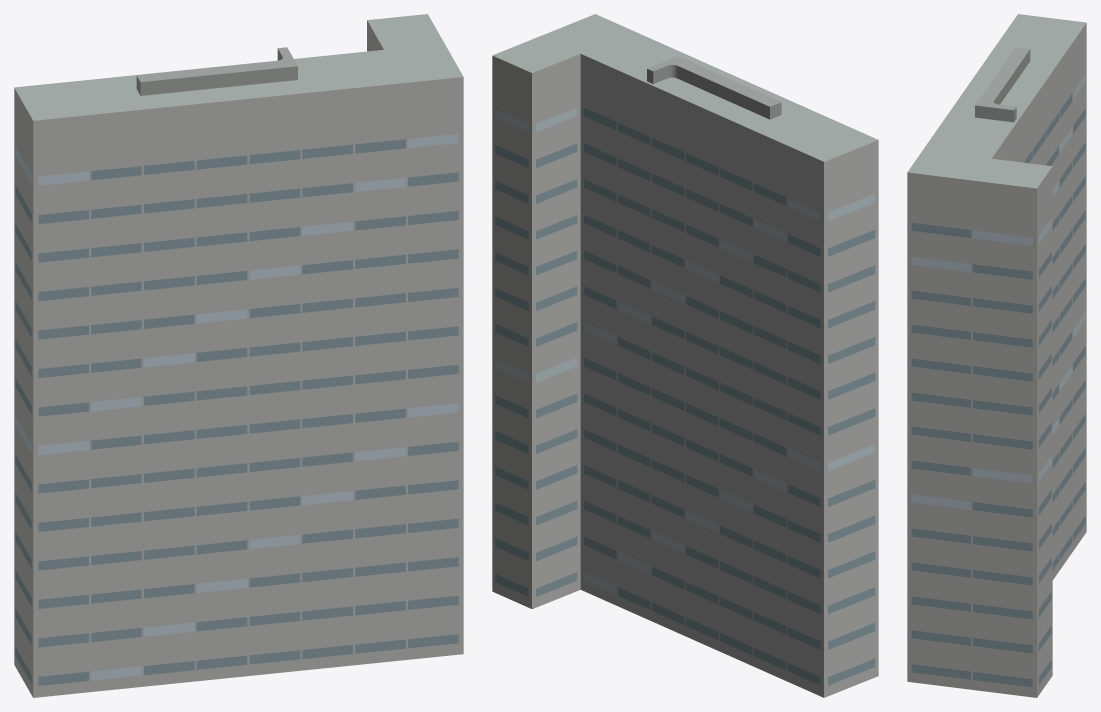
File: fallback-olympic-park-foreon-110.glb
3 views of the same model, side by side, from view 1: azimuth 30°, elevation 25°; view 2: azimuth 150°, elevation 25°; view 3: azimuth 270°, elevation 25° (orthographic). The views are drawn at different scales.
Parts seen in each view (by area): view 1: fallback-olympic-park-foreon-110; view 2: fallback-olympic-park-foreon-110; view 3: fallback-olympic-park-foreon-110.
Part boxes in pixels (x1=…): fallback-olympic-park-foreon-110: x1=14, y1=14, x2=463, y2=697; fallback-olympic-park-foreon-110: x1=492, y1=14, x2=878, y2=697; fallback-olympic-park-foreon-110: x1=907, y1=14, x2=1086, y2=697.
Bounding box in the file's own units: 73.95 × 103 × 32.12.
